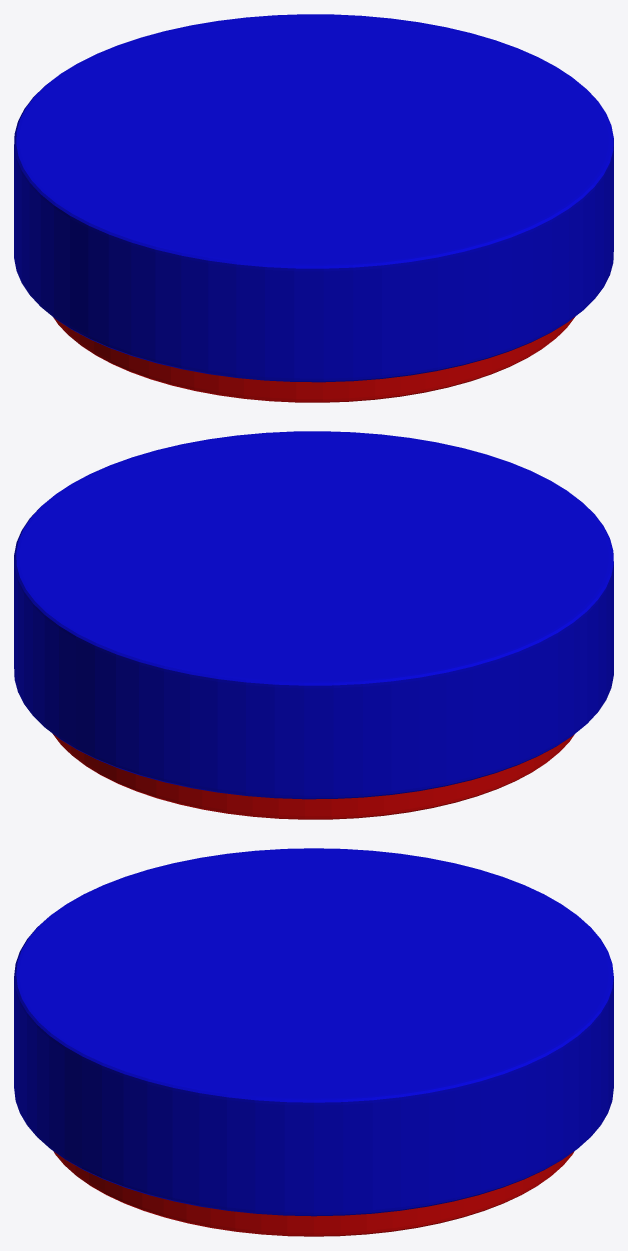
The model's file is mv_CouchTableF.fbx.
3 renders of one model, top to bottom at view 1: azimuth 30°, elevation 25°; view 2: azimuth 150°, elevation 25°; view 3: azimuth 270°, elevation 25°, orthographic.
Visible parts, largest first — view 1: CouchTableF_LOD0; view 2: CouchTableF_LOD0; view 3: CouchTableF_LOD0.
Boxes of the visible parts, box(x1,y1,x2,y2) form: CouchTableF_LOD0: box(14, 14, 613, 402); CouchTableF_LOD0: box(14, 431, 613, 819); CouchTableF_LOD0: box(14, 848, 613, 1236).
Size of what is drawn, in the model's own units: 140 by 38.49 by 140.
